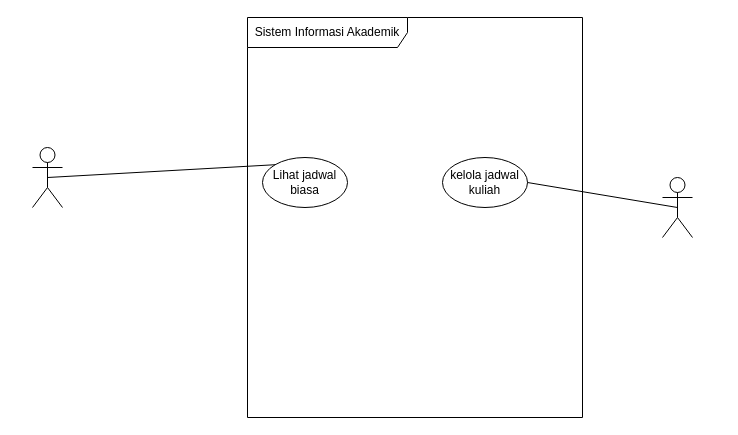
Some shapes in this 738 by 435 pixel diagram are drawn without their labels. Here are the shapes that lost their labels. From the top down, the centre of each, then its label:
the point at 47,177: Mahasiswa
the point at 677,207: admin akademik
